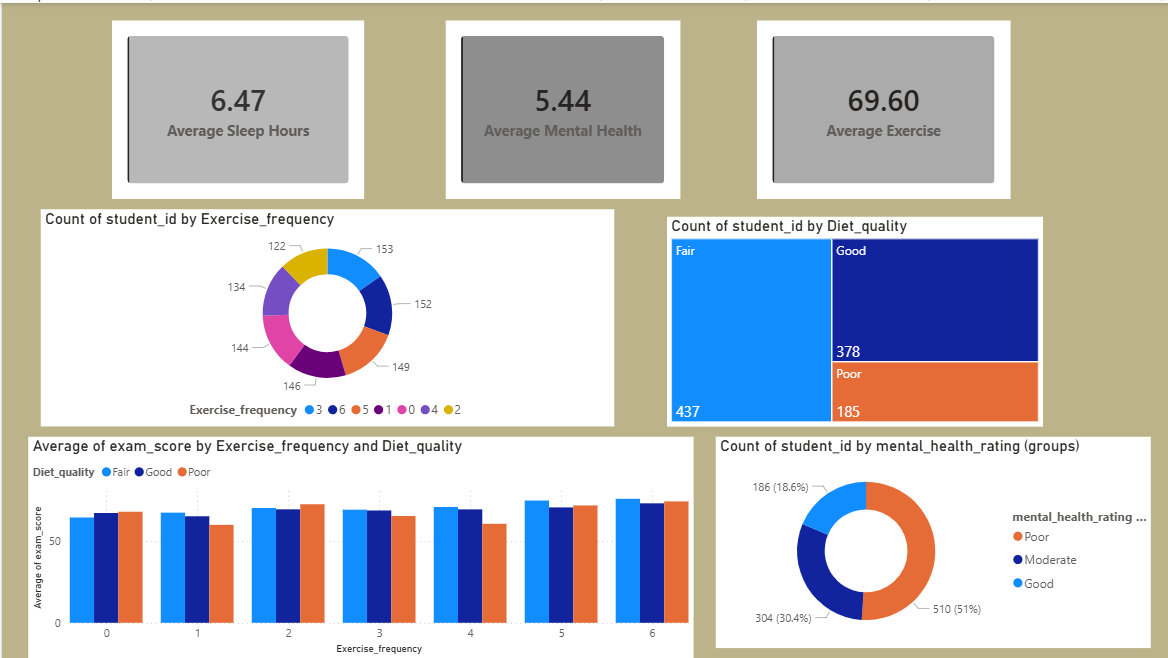

What the dashboard file says about the page in this screenshot:
{"tool":"powerbi","page":{"name":"Page 3","canvas":[1280,720],"ordinal":2},"visuals":[{"type":"donutChart","fields":{"Y":["CountNonNull(student_habits_performance (2).student_id)"],"Category":["student_habits_performance (2).Exercise_frequency"]},"box":[42.5,226.4,629.8,238.8],"z":0},{"type":"treemap","fields":{"Group":["student_habits_performance (2).Diet_quality"],"Values":["CountNonNull(student_habits_performance (2).student_id)"]},"box":[730,234.6,413,230.5],"z":1000},{"type":"cardVisual","fields":{"Data":["student_habits_performance (2).Average Sleep Hours"]},"box":[120.8,19.2,277.2,196.2],"z":2000},{"type":"cardVisual","fields":{"Data":["student_habits_performance (2).Average Mental Health"]},"box":[487.1,19.2,258,196.2],"z":3000},{"type":"cardVisual","fields":{"Data":["student_habits_performance (2).Average Exercise"]},"box":[828.8,19.2,278.6,196.2],"z":4000},{"type":"clusteredColumnChart","fields":{"Category":["student_habits_performance (2).Exercise_frequency"],"Y":["Avg(student_habits_performance (2).exam_score)"],"Series":["student_habits_performance (2).Diet_quality"]},"box":[28.8,476.2,730,244.3],"z":4001},{"type":"donutChart","fields":{"Category":["student_habits_performance (2).mental_health_rating (groups)"],"Y":["CountNonNull(student_habits_performance (2).student_id)"]},"box":[783.5,476.2,477.5,231.9],"z":4002}]}

Visuals, with their boxes in screenshot pixels (x1, y1, x2, y2), scaled from the page's 1280x720 canvas onto the 1168x658 screenshot:
donutChart - CountNonNull(student_habits_performance (2).student_id) x student_habits_performance (2).Exercise_frequency: [x1=39, y1=207, x2=613, y2=425]
treemap - student_habits_performance (2).Diet_quality x CountNonNull(student_habits_performance (2).student_id): [x1=666, y1=214, x2=1043, y2=425]
cardVisual - student_habits_performance (2).Average Sleep Hours: [x1=110, y1=18, x2=363, y2=197]
cardVisual - student_habits_performance (2).Average Mental Health: [x1=444, y1=18, x2=680, y2=197]
cardVisual - student_habits_performance (2).Average Exercise: [x1=756, y1=18, x2=1011, y2=197]
clusteredColumnChart - student_habits_performance (2).Exercise_frequency x Avg(student_habits_performance (2).exam_score): [x1=26, y1=435, x2=692, y2=657]
donutChart - student_habits_performance (2).mental_health_rating (groups) x CountNonNull(student_habits_performance (2).student_id): [x1=715, y1=435, x2=1151, y2=647]
